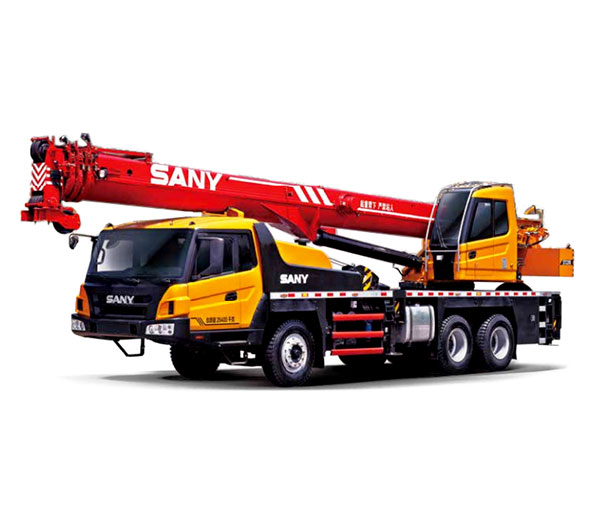crane: (12, 128, 583, 382)
